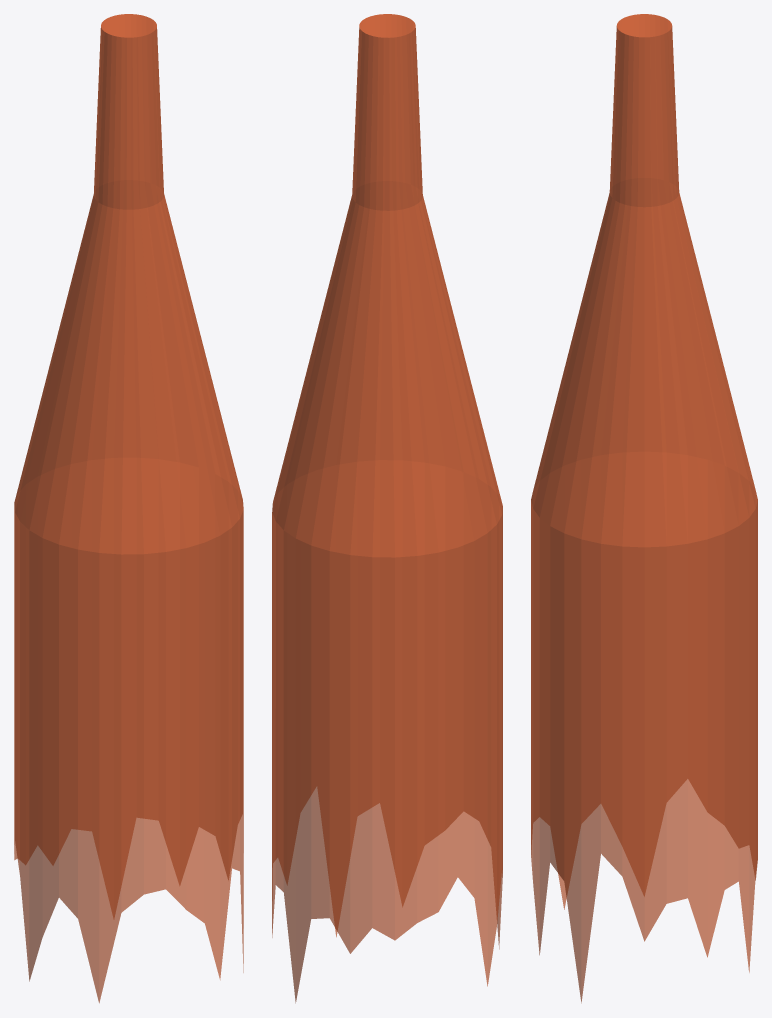
File: Broken Bottle.fbx
The picture shows the model from 3 angles, left to right: view 1: azimuth 30°, elevation 25°; view 2: azimuth 150°, elevation 25°; view 3: azimuth 270°, elevation 25°; orthographic projection.
Visible parts, largest first — view 1: Cylinder; view 2: Cylinder; view 3: Cylinder.
Part boxes in pixels (left/top/right/bottom): Cylinder: left=14, top=14, right=243, bottom=1003; Cylinder: left=272, top=14, right=502, bottom=1003; Cylinder: left=531, top=14, right=757, bottom=1003.
Size of the model in its own units: 106 by 483 by 106.
